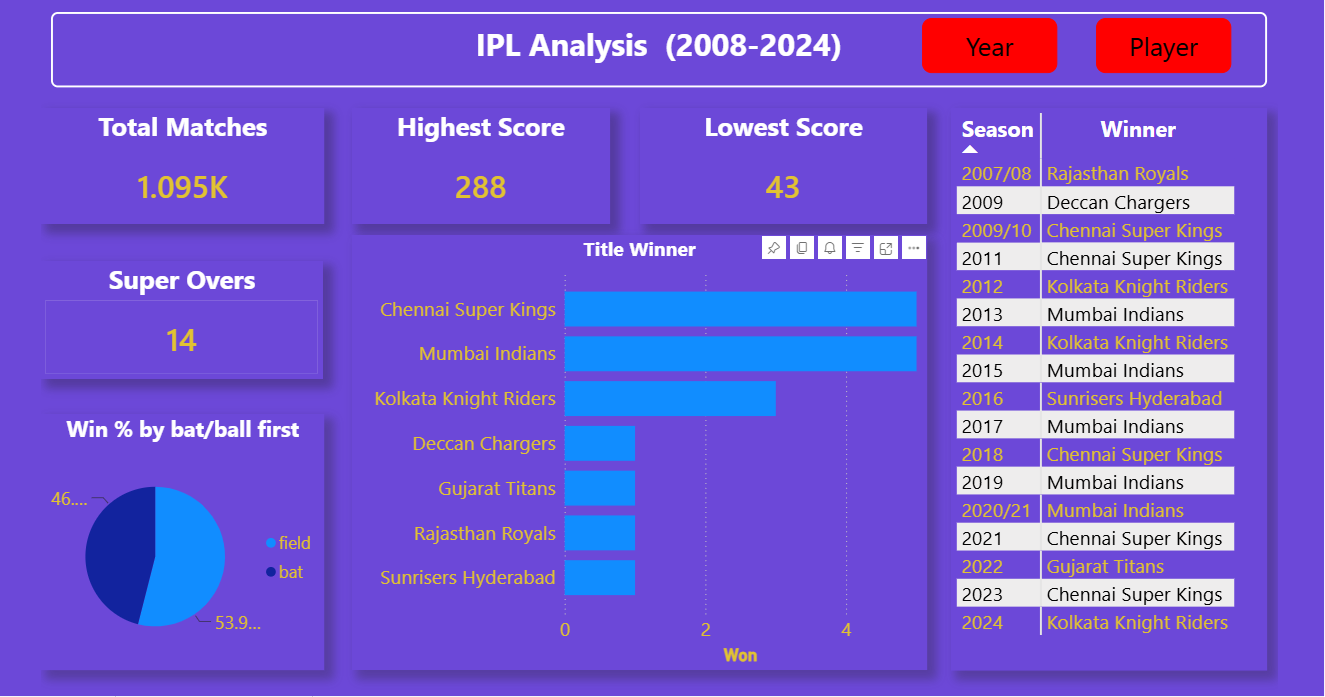

Layout of this report page (visuals, bound fields, positions):
{"tool":"powerbi","page":{"name":"Main","canvas":[1280,720],"ordinal":0},"visuals":[{"type":"cardVisual","title":"Total Matches","fields":{"Data":["Count(IPL_Matches.id)"]},"box":[0,111.7,293.3,120],"z":0},{"type":"cardVisual","title":"Highest Score","fields":{"Data":["Max(IPL_Matches.target_runs)"]},"box":[321.7,111.7,266.7,120],"z":1000},{"type":"cardVisual","title":"Lowest Score","fields":{"Data":["Min(IPL_Matches.target_runs)"]},"box":[620,111.7,296.7,120],"z":2000},{"type":"cardVisual","title":"Super Overs","fields":{"Data":["IPL_Matches.total_super_over"]},"box":[0,270,291.7,121.7],"z":3000},{"type":"barChart","title":"Title Winner","fields":{"Category":["IPL_Matches.winner"],"Y":["IPL_Matches.title_win_count"]},"box":[321.7,243.3,595,450],"z":4000},{"type":"pieChart","title":"Win % by bat/ball first","fields":{"Y":["CountNonNull(IPL_Matches.winner_bat_field_first)"],"Category":["IPL_Matches.winner_bat_field_first"]},"box":[0,428.3,293.3,265],"z":5000},{"type":"tableEx","fields":{"Values":["IPL_Matches.season","IPL_Matches.winner"]},"box":[941.7,111.7,326.7,581.7],"z":6000},{"type":"textbox","box":[10.5,12,1257.8,77.7],"z":7000,"group":"g1"},{"type":"actionButton","box":[1091.7,18.4,140,56.7],"z":8000,"group":"g1"},{"type":"actionButton","box":[911.7,18.4,140,56.7],"z":9000,"group":"g1"},{"type":"group","id":"g1","title":"Group 1","box":[10.5,12,1257.8,77.7],"z":9001}]}

Visuals, with their boxes on the page's 1280x720 design canvas (x1, y1, x2, y2). These are canvas units, not pixel positions in the 1325x697 screenshot, which may show the page scaled, cropped or inside an application window:
"Total Matches" cardVisual: <box>0,112,293,232</box>
"Highest Score" cardVisual: <box>322,112,588,232</box>
"Lowest Score" cardVisual: <box>620,112,917,232</box>
"Super Overs" cardVisual: <box>0,270,292,392</box>
"Title Winner" barChart: <box>322,243,917,693</box>
"Win % by bat/ball first" pieChart: <box>0,428,293,693</box>
tableEx - IPL_Matches.season x IPL_Matches.winner: <box>942,112,1268,693</box>
textbox: <box>10,12,1268,90</box>
actionButton: <box>1092,18,1232,75</box>
actionButton: <box>912,18,1052,75</box>
"Group 1" group: <box>10,12,1268,90</box>
